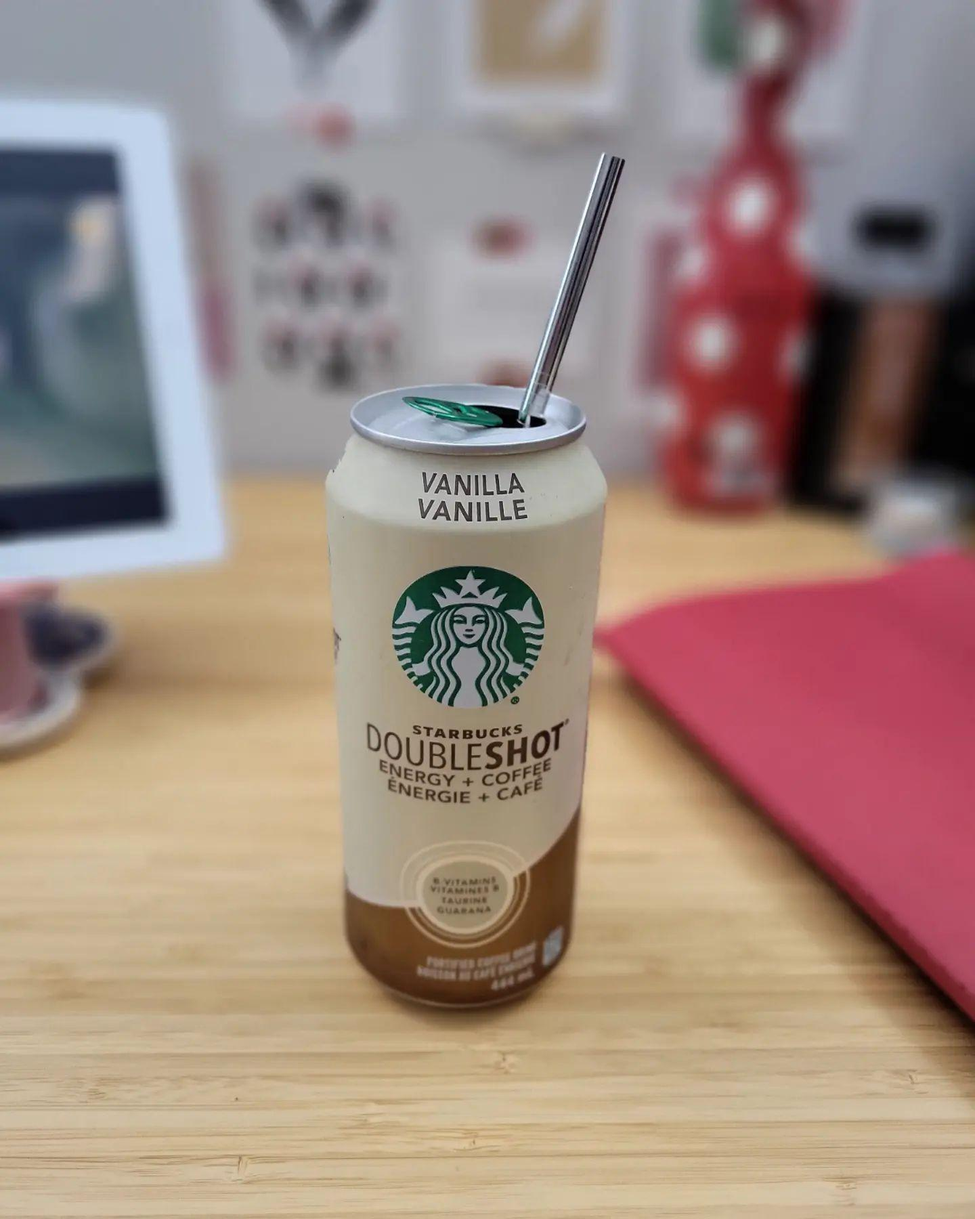tin can: (326, 373, 622, 1029)
